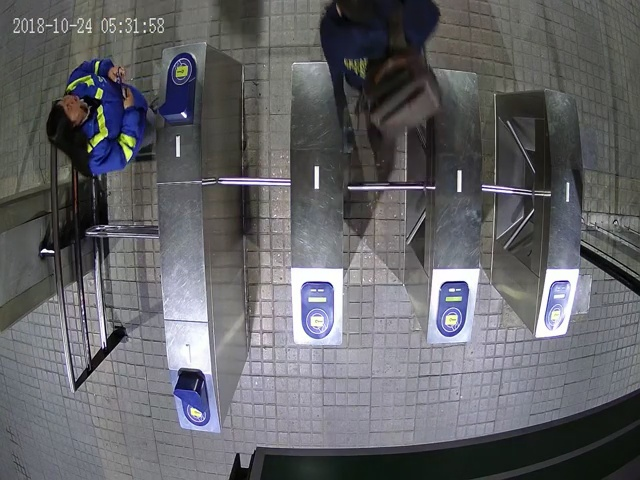Chaleco_azul: (46, 56, 159, 175)
